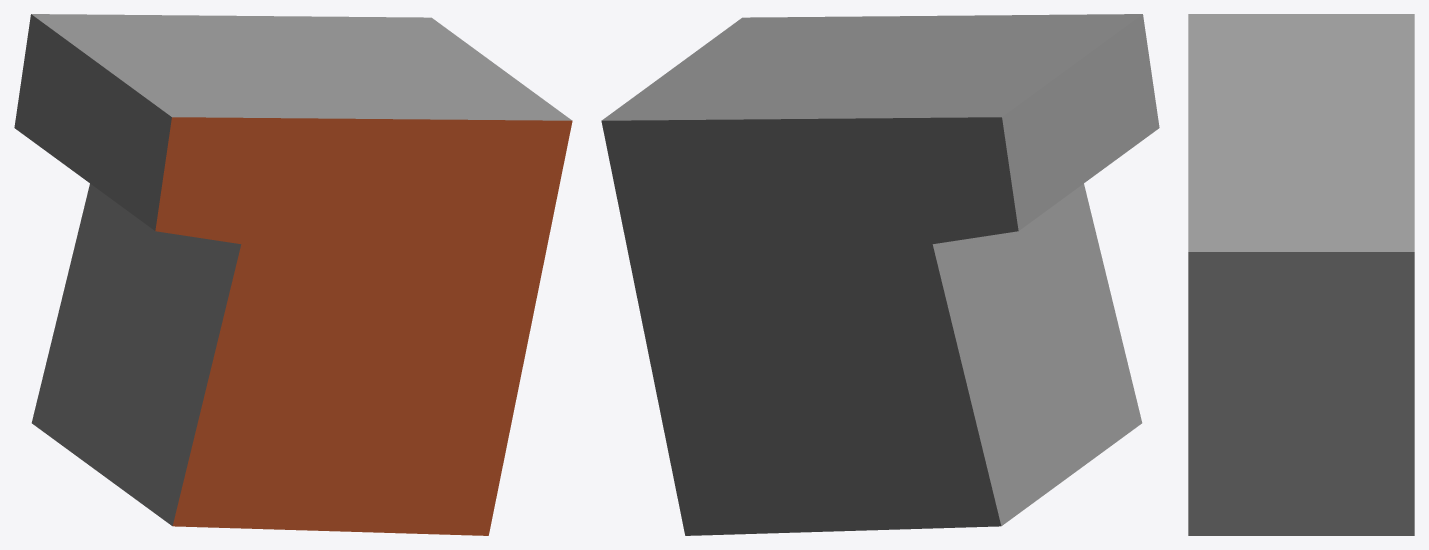
Rendered from construction_3114_assumed_A_Casa_h6m.obj.
3 renders of one model, left to right at view 1: azimuth 30°, elevation 25°; view 2: azimuth 150°, elevation 25°; view 3: azimuth 270°, elevation 25°, orthographic. The views are drawn at different scales.
Parts seen in each view (by area): view 1: construction_3114_assumed_A_Casa; view 2: construction_3114_assumed_A_Casa; view 3: construction_3114_assumed_A_Casa.
Part boxes in pixels (<box>): construction_3114_assumed_A_Casa: <box>14,14,572,535</box>; construction_3114_assumed_A_Casa: <box>601,14,1159,535</box>; construction_3114_assumed_A_Casa: <box>1188,14,1414,535</box>.
Size of the model in its own units: 10.25 by 11.65 by 6.
